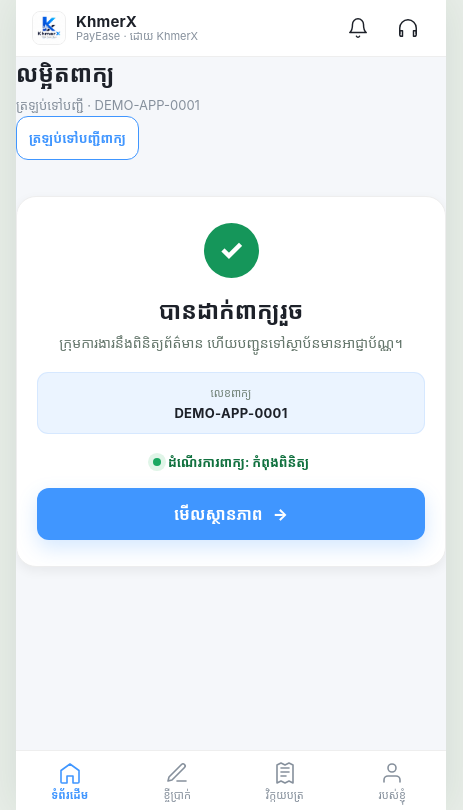
Test case: user-mini-app P0 skeleton navigation › opens explicit order-detail query and Back button returns Orders
Check: the heading "លម្អិតពាក្យ" is shown, box x1=16 y1=60 x2=114 y2=88
Click the button "ត្រឡប់ទៅបញ្ជីពាក្យ".
click(77, 138)  # box x1=16 y1=116 x2=139 y2=160
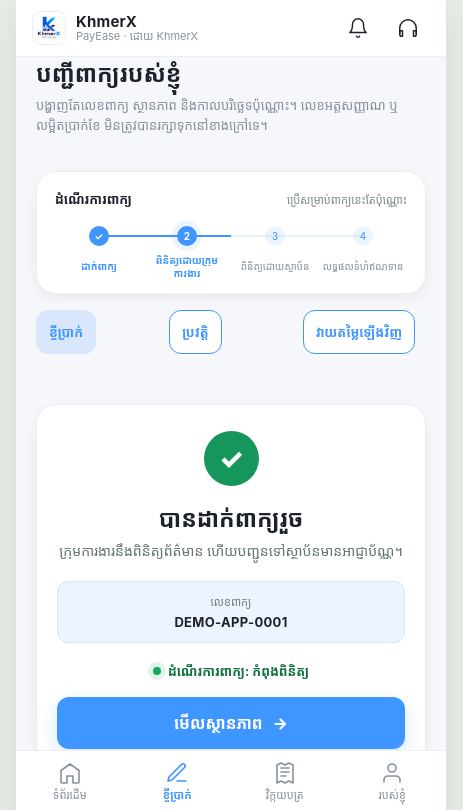
Check: the heading "បញ្ជីពាក្យរបស់ខ្ញុំ" is shown, box x1=36 y1=60 x2=182 y2=88
